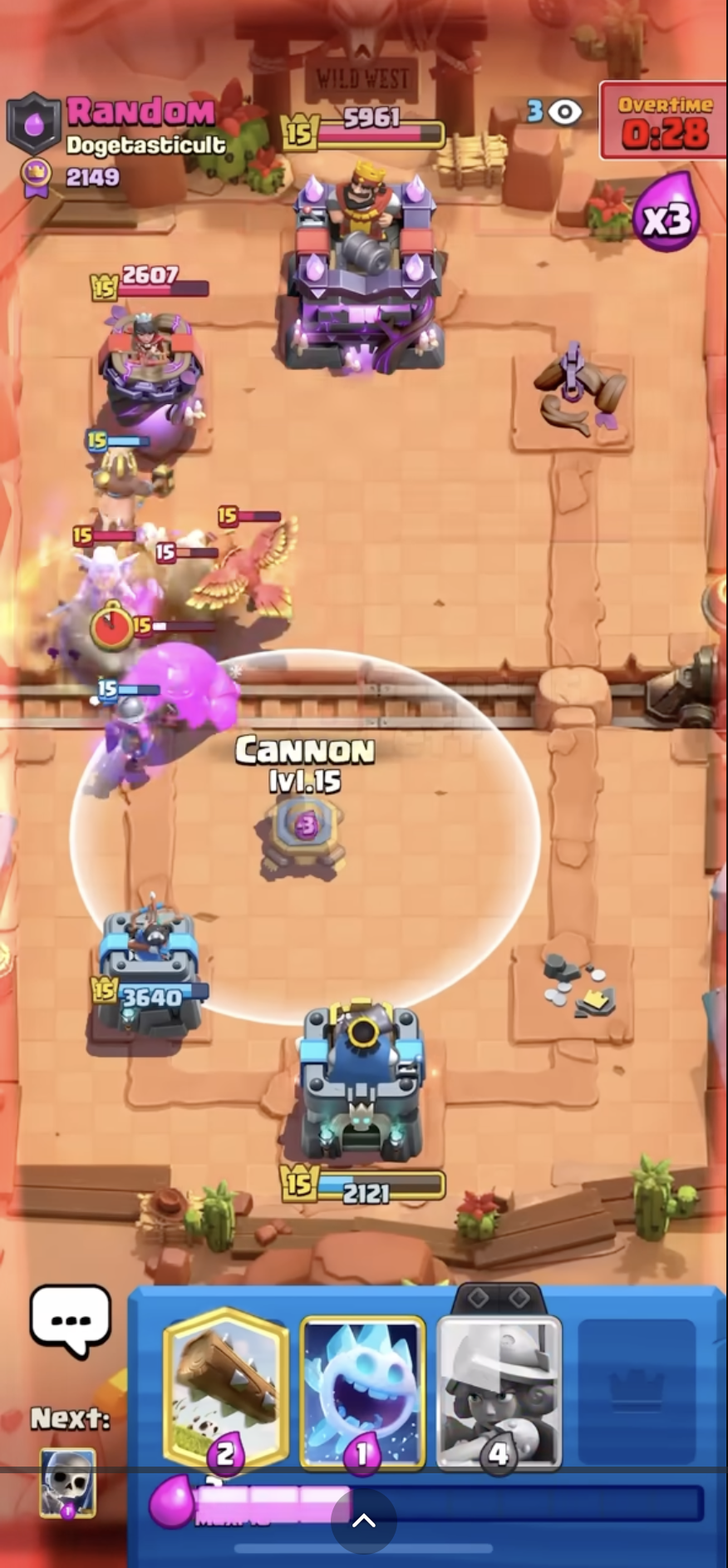evo_musketeer: (89, 671, 169, 795)
